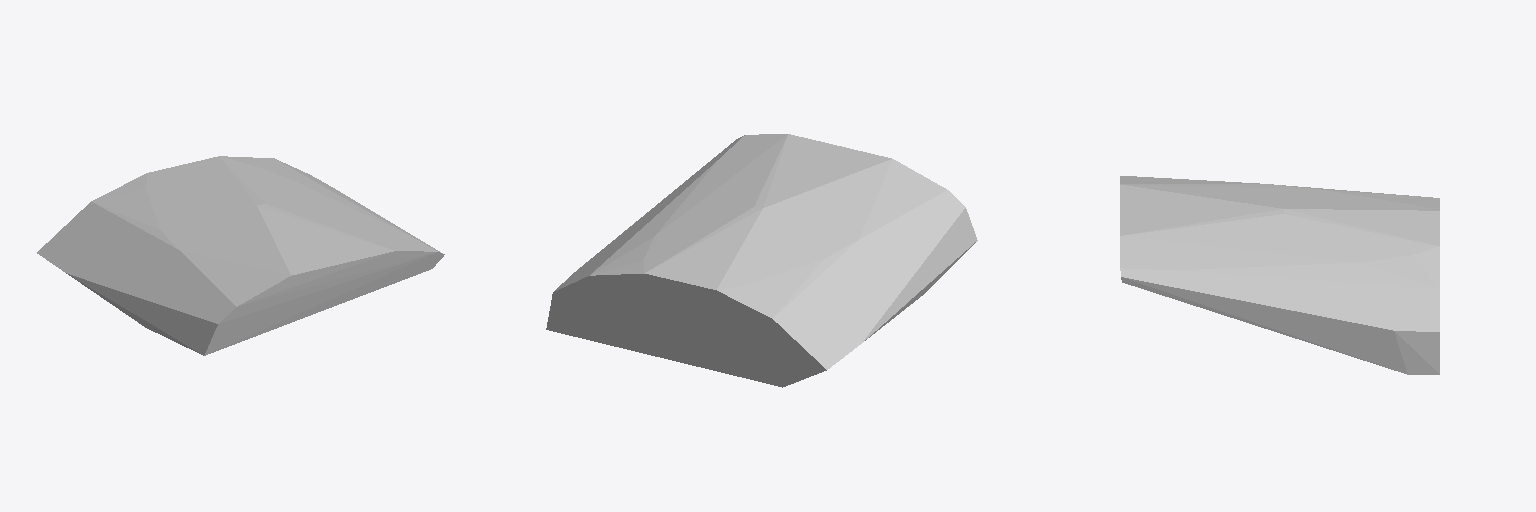
The model's file is plastic_cup_collision_1.obj.
The picture shows the model from 3 angles: view 1: azimuth 30°, elevation 25°; view 2: azimuth 150°, elevation 25°; view 3: azimuth 270°, elevation 25°; orthographic projection.
Size of the model in its own units: 0.0354 by 0.0119 by 0.0347.